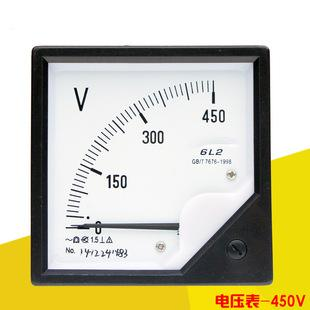pointer: (46, 61, 256, 273)
